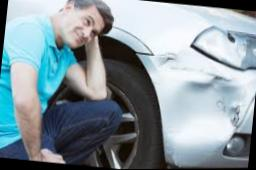Bumper: (138, 54, 249, 126)
Light: (193, 26, 256, 69)
